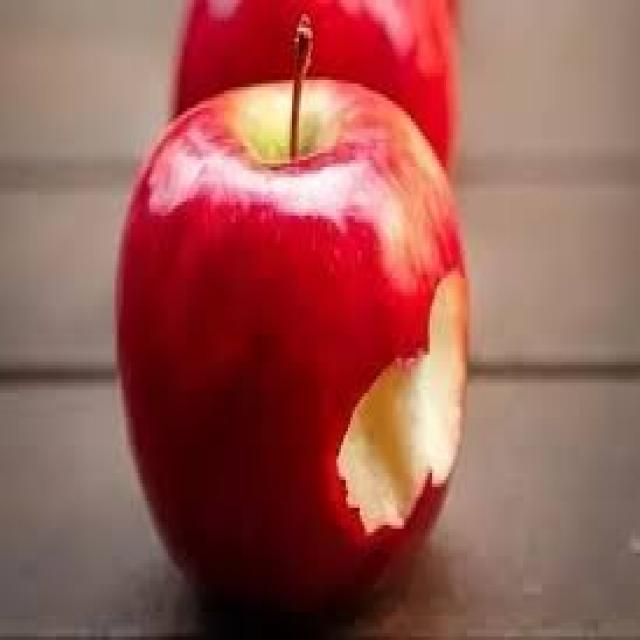organic waste: (112, 73, 465, 619), (173, 0, 458, 181)
